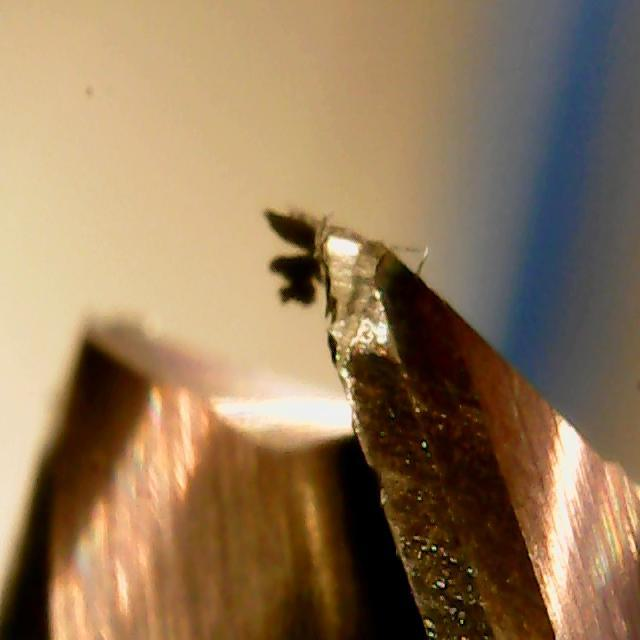Tool-wear-class-2: (276, 196, 471, 574)
